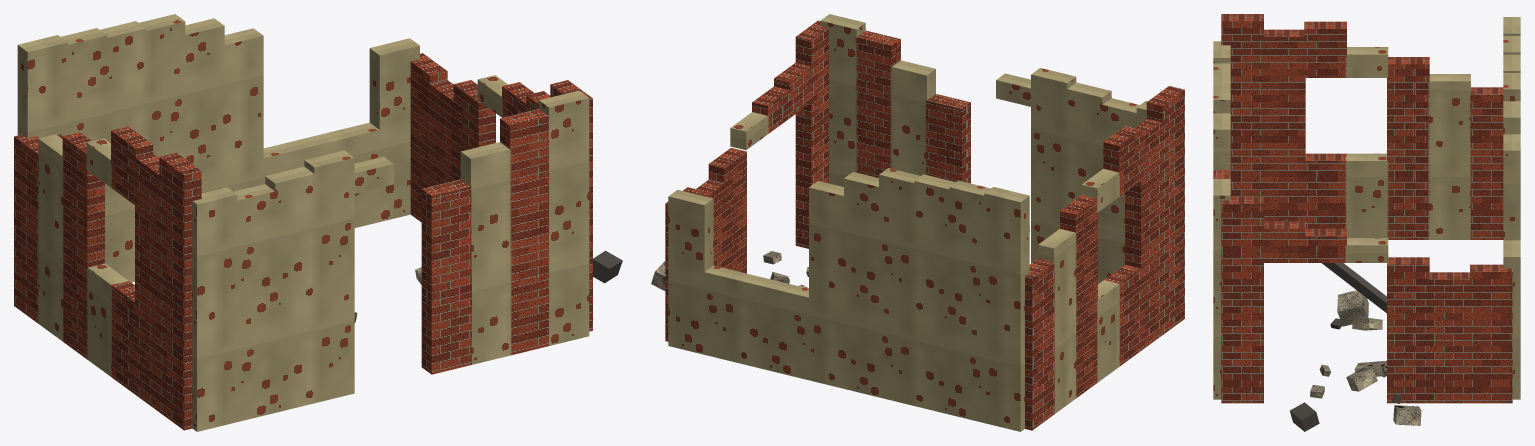
The model's file is ruin_house_shell.glb.
The picture shows the model from 3 angles, left to right: view 1: azimuth 30°, elevation 25°; view 2: azimuth 150°, elevation 25°; view 3: azimuth 270°, elevation 25°; orthographic projection. The views are drawn at different scales.
Visible parts, largest first — view 1: ruin_house_shell-col; view 2: ruin_house_shell-col; view 3: ruin_house_shell-col.
Part boxes in pixels (x1,y1,x2,y2): ruin_house_shell-col: (14,14,622,431); ruin_house_shell-col: (651,14,1184,431); ruin_house_shell-col: (1213,14,1520,431).
Bounding box in the file's own units: 4.96 × 2.58 × 3.18.
4 materials, 3 textured.
